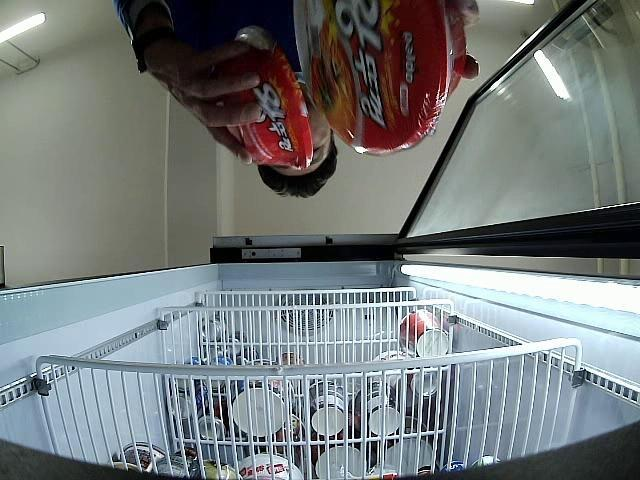10_wangTtukkeong: (294, 0, 465, 156), (224, 26, 313, 170)
